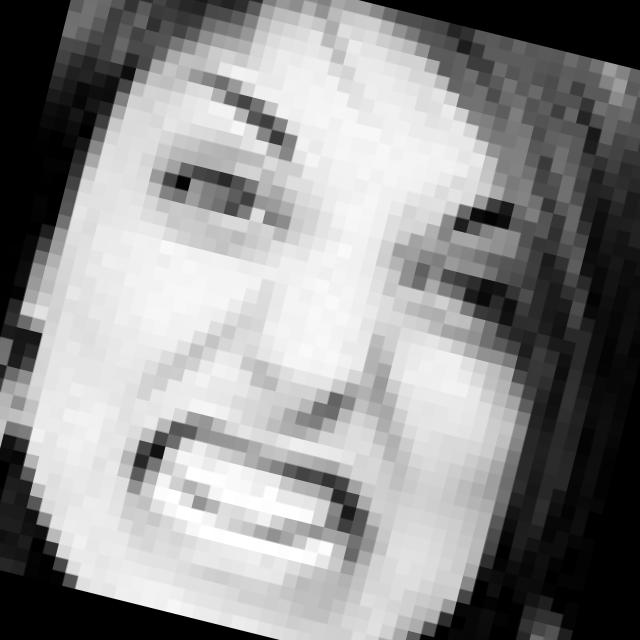angry: (54, 54, 557, 632)
